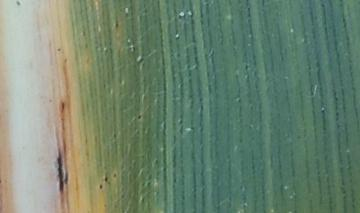tarspot: (54, 148, 66, 193), (113, 18, 120, 29), (110, 170, 118, 179), (135, 112, 143, 120), (102, 174, 109, 183), (54, 46, 63, 52), (97, 183, 104, 189), (14, 1, 22, 6)
